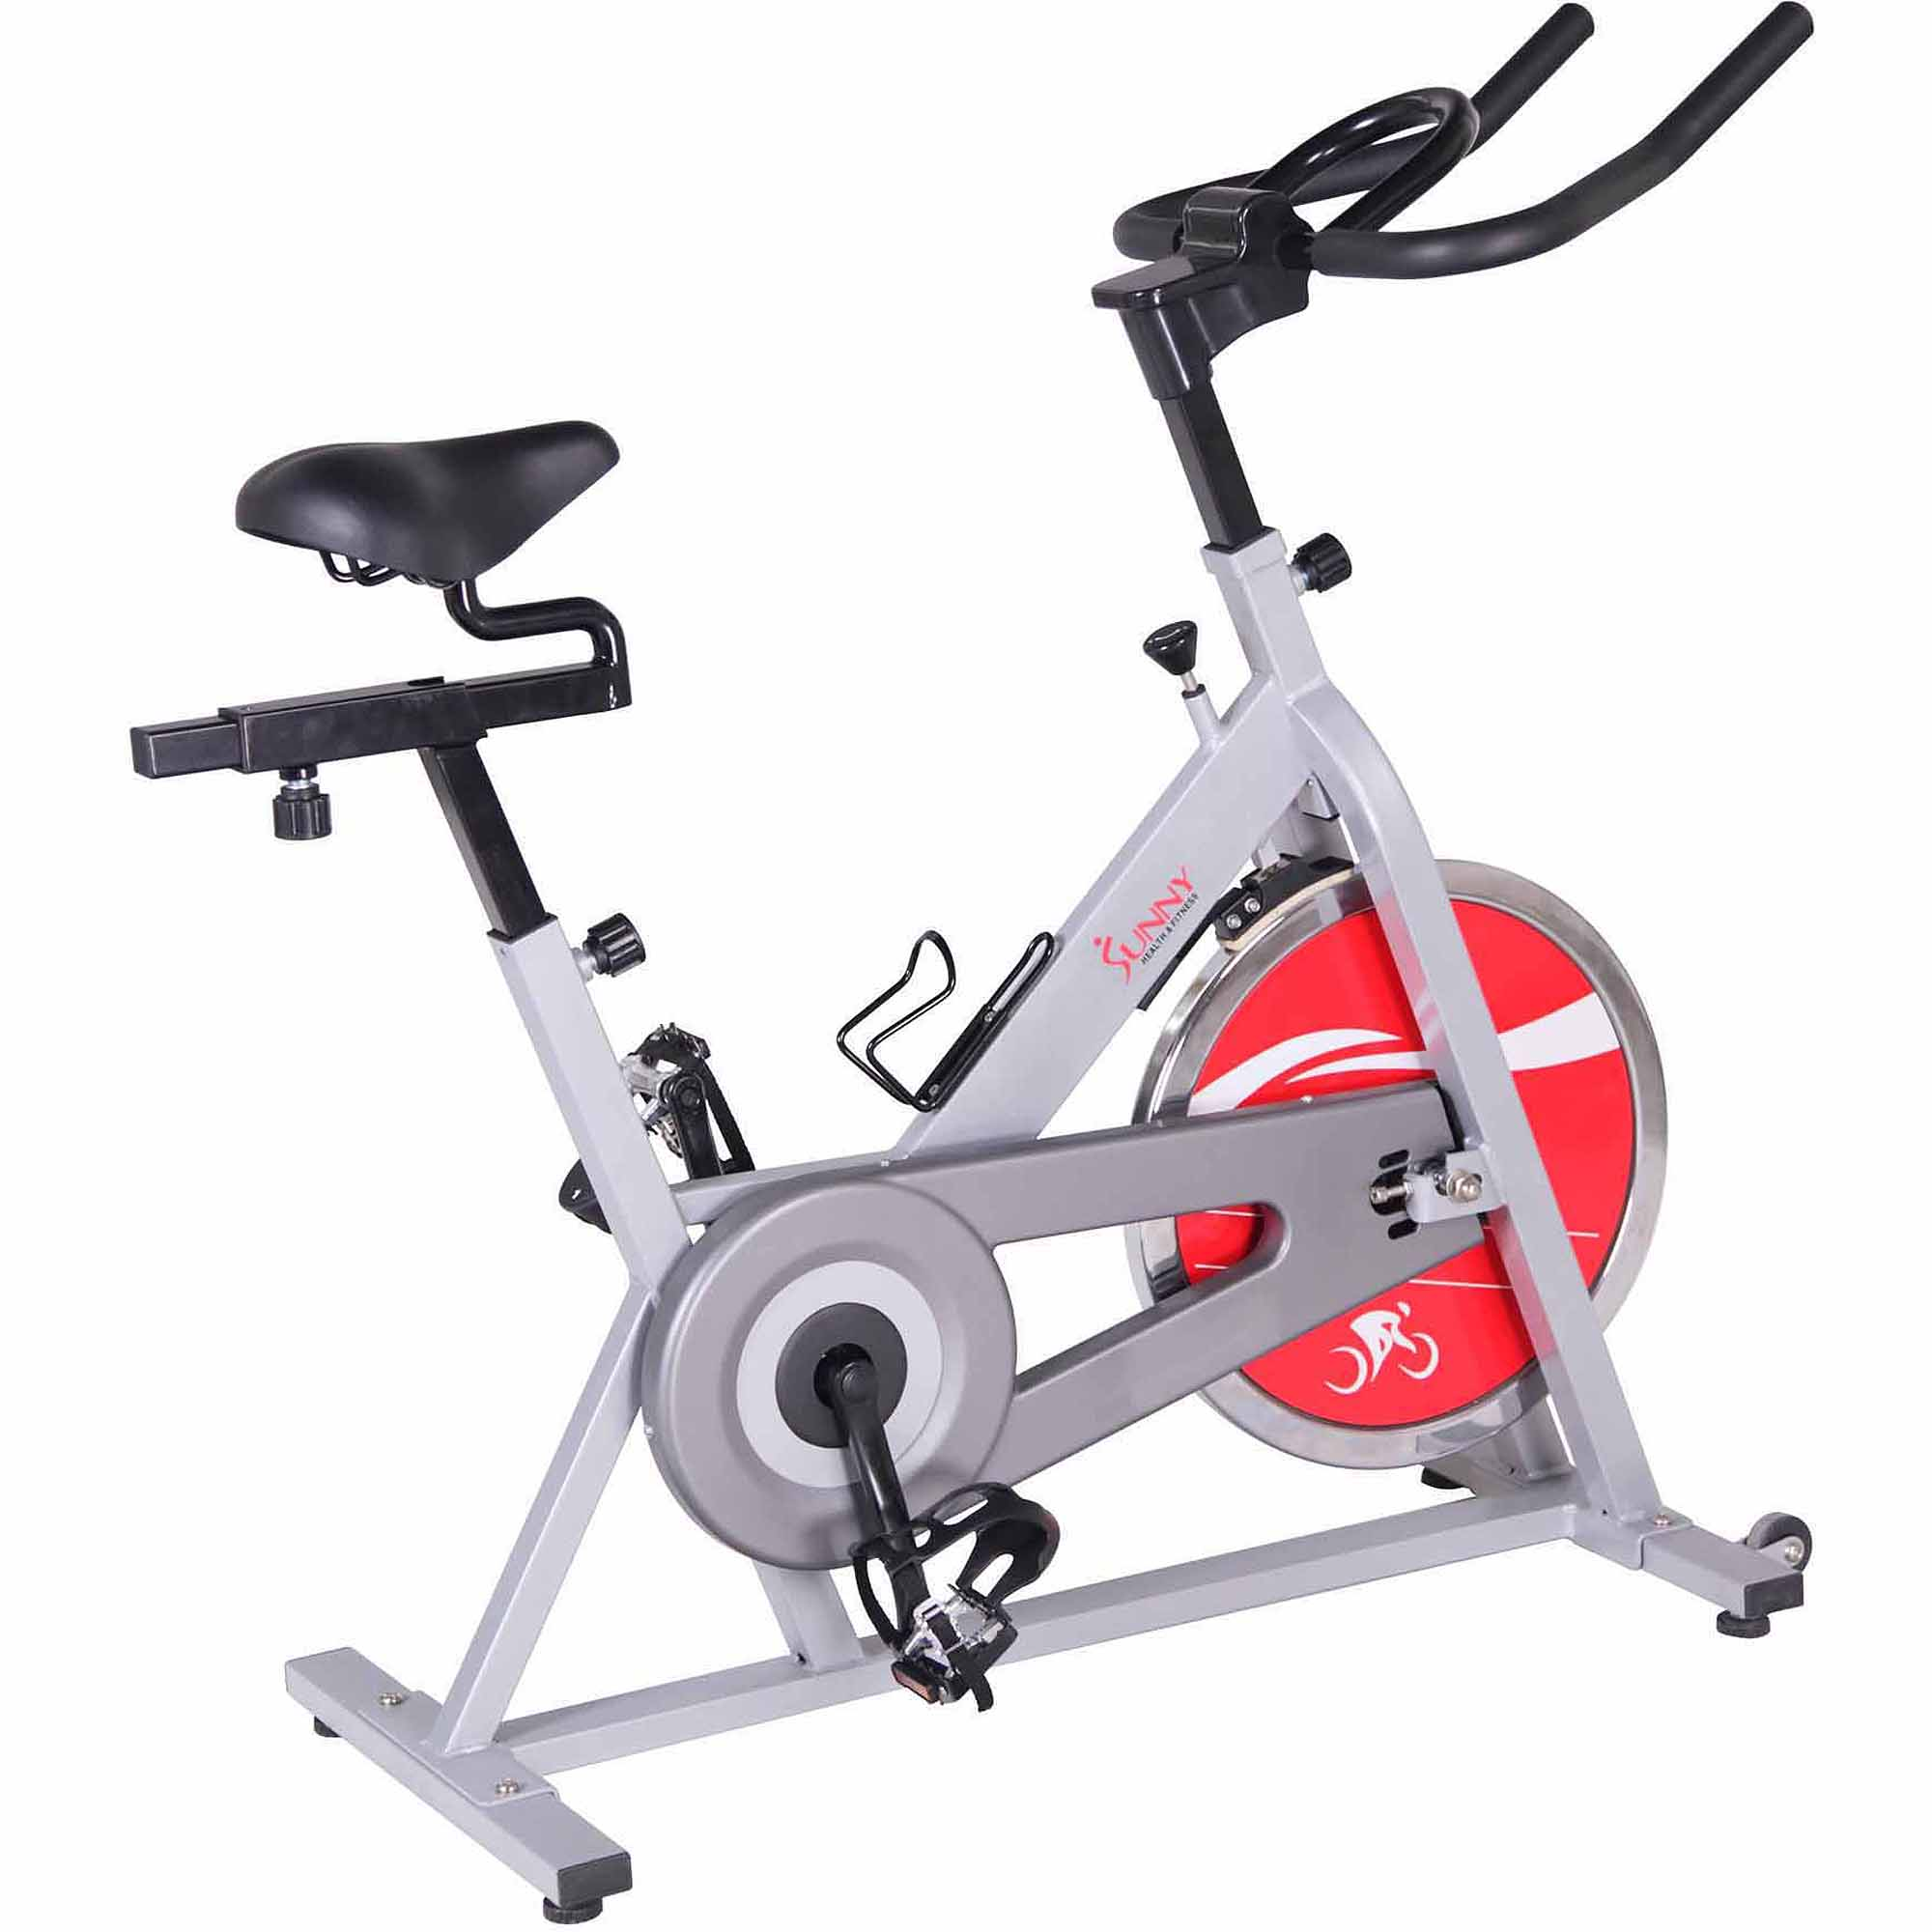gym_bike: (110, 2, 1852, 1882)
